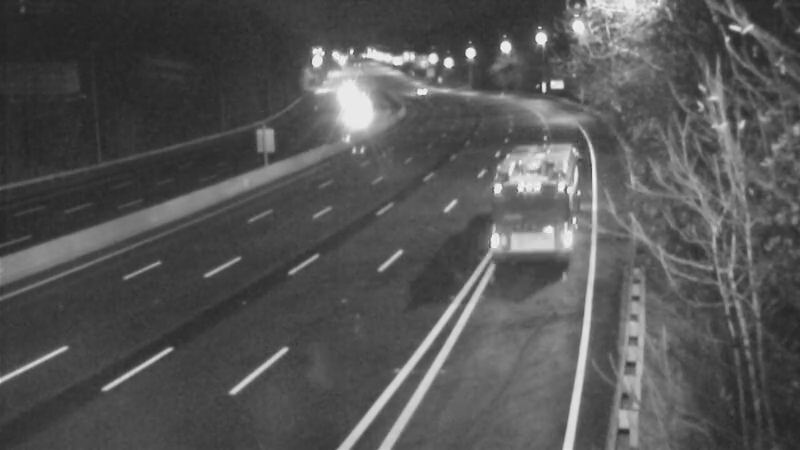vehicle: (489, 161, 569, 241), (393, 64, 443, 114), (326, 90, 376, 140)
